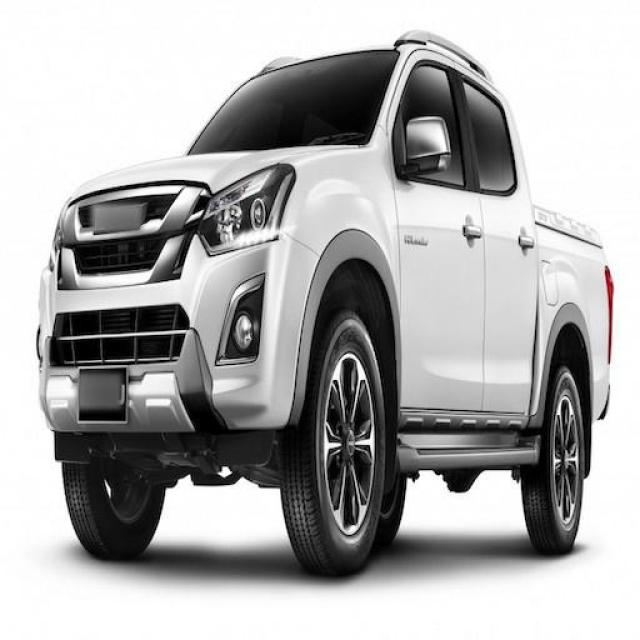back_left_door: (457, 60, 538, 412)
front_bumper: (37, 180, 321, 432)
front_glass: (188, 52, 399, 152)
front_left_door: (388, 48, 485, 412)
front_left_light: (195, 162, 299, 257)
hood: (71, 144, 361, 201)
left_mirror: (399, 117, 452, 182)
trunk: (531, 206, 610, 421)
wheel: (281, 307, 388, 575), (523, 364, 585, 556), (62, 461, 165, 561)
